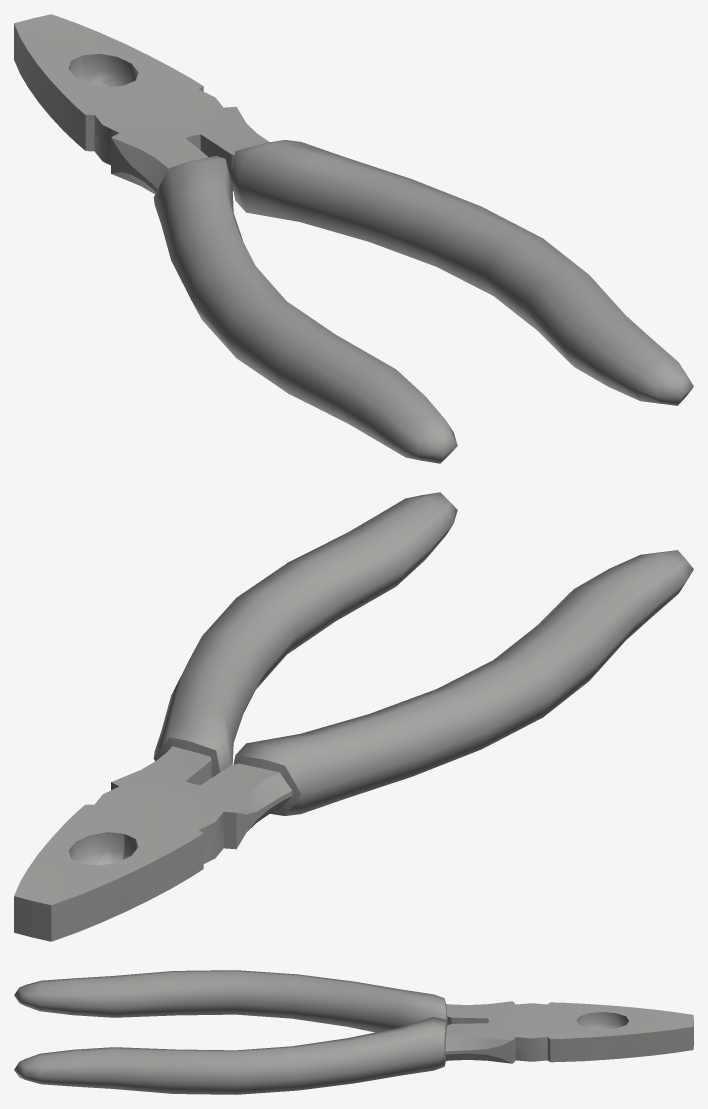
Rendered from pliers.glb.
3 views of the same model, one above another, from view 1: azimuth 30°, elevation 25°; view 2: azimuth 150°, elevation 25°; view 3: azimuth 270°, elevation 25° (orthographic). The views are drawn at different scales.
Parts seen in each view (by area): view 1: pliers, handle; view 2: handle, pliers; view 3: pliers, handle.
Part boxes in pixels (bbox=[...]): pliers: bbox=[14, 18, 693, 405]; handle: bbox=[32, 14, 457, 463]; handle: bbox=[14, 550, 693, 937]; pliers: bbox=[32, 492, 457, 941]; pliers: bbox=[14, 1002, 693, 1094]; handle: bbox=[14, 970, 693, 1062].
Bounding box in the file's own units: 0.0587 × 0.0111 × 0.1651.
1 material, 1 textured.
